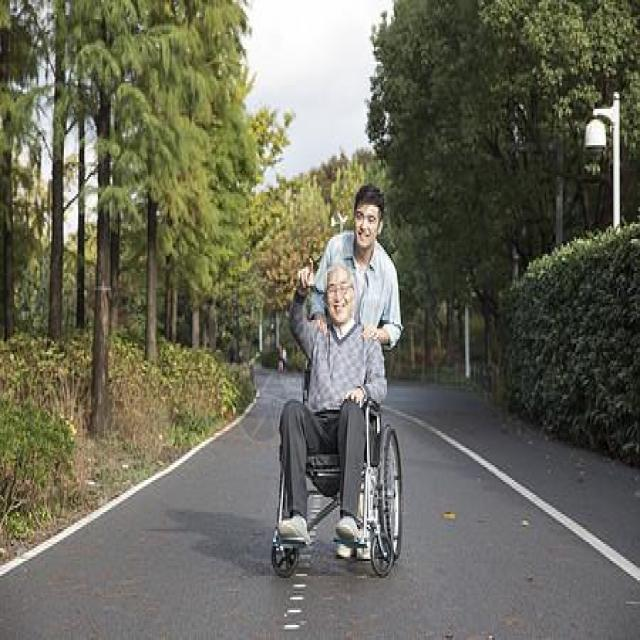wheelchairs: (265, 344, 415, 585)
